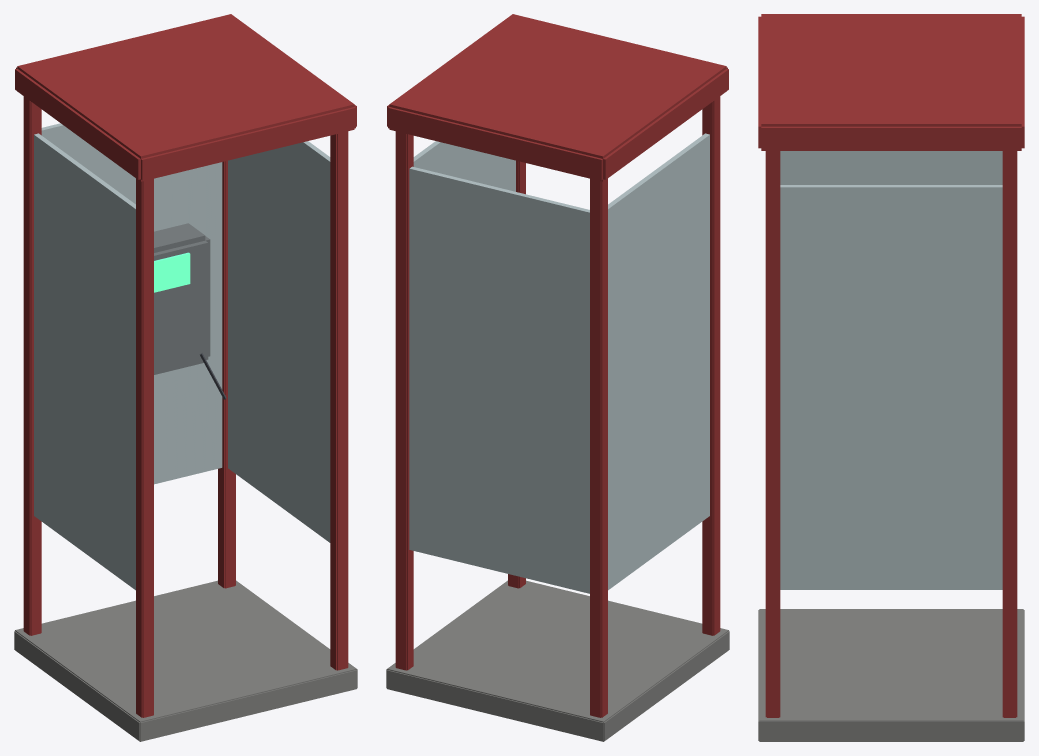
Rendered from phone_booth.glb.
3 renders of one model, left to right at view 1: azimuth 30°, elevation 25°; view 2: azimuth 150°, elevation 25°; view 3: azimuth 270°, elevation 25°, orthographic. The views are drawn at different scales.
Visible parts, largest first — view 1: booth_mesh; view 2: booth_mesh; view 3: booth_mesh.
Part boxes in pixels (<box>): booth_mesh: <box>14,14,357,741</box>; booth_mesh: <box>386,14,729,741</box>; booth_mesh: <box>758,14,1024,741</box>.
Size of what is drawn, in the model's own units: 0.9 by 2.3 by 0.9.
